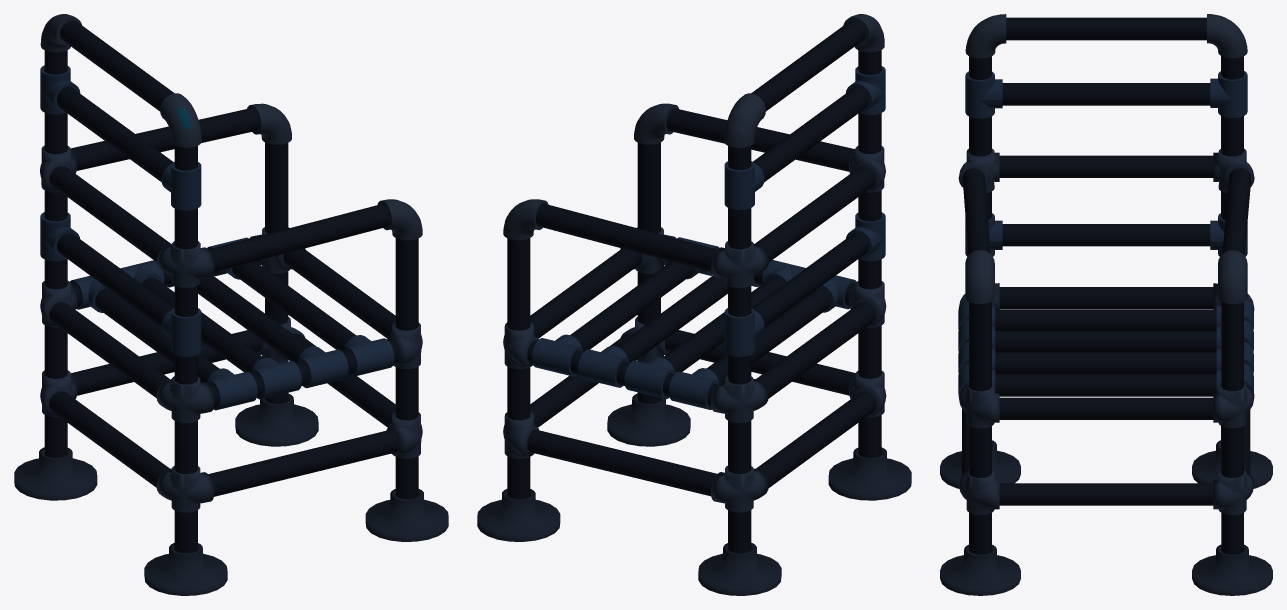
Rendered from Chair_01.fbx.
3 renders of one model, left to right at view 1: azimuth 30°, elevation 25°; view 2: azimuth 150°, elevation 25°; view 3: azimuth 270°, elevation 25°, orthographic. The views are drawn at different scales.
Visible parts, largest first — view 1: p_section_lp24, p_section_lp28, p_section_lp9, p_section_lp12, p_section_lp7, B_Sec_lp9, B_Sec_lp7, B_Sec_lp10, p_section_lp3, B_Sec_lp8, p_section_lp10, p_section_lp8 (+41 smaller); view 2: p_section_lp23, p_section_lp27, p_section_lp12, p_section_lp7, p_section_lp9, B_Sec_lp10, B_Sec_lp8, B_Sec_lp9, B_Sec_lp7, p_section_lp3, p_section_lp8, p_section_lp10 (+41 smaller); view 3: p_section_lp5, p_section_lp3, p_section_lp1, p_section_lp2, p_section_lp7, p_section_lp9, p_section_lp4, p_section_lp6, p_section_lp11, p_section_lp10, p_section_lp8, B_Sec_lp8 (+25 smaller).
Boxes of the visible parts, x1,y1,x2,y2 form: p_section_lp24: [208, 430, 398, 496]; p_section_lp28: [208, 204, 389, 271]; p_section_lp9: [49, 166, 170, 262]; p_section_lp12: [49, 391, 169, 487]; p_section_lp7: [49, 302, 169, 397]; B_Sec_lp9: [14, 447, 97, 500]; B_Sec_lp7: [365, 489, 448, 541]; B_Sec_lp10: [144, 543, 227, 595]; p_section_lp3: [232, 261, 355, 351]; B_Sec_lp8: [235, 393, 318, 446]; p_section_lp10: [57, 86, 173, 181]; p_section_lp8: [57, 233, 173, 327]; p_section_lp23: [527, 429, 716, 496]; p_section_lp27: [536, 204, 717, 271]; p_section_lp12: [756, 391, 876, 487]; p_section_lp7: [756, 302, 876, 398]; p_section_lp9: [755, 166, 875, 261]; B_Sec_lp10: [828, 447, 911, 500]; B_Sec_lp8: [477, 489, 560, 541]; B_Sec_lp9: [698, 543, 781, 595]; B_Sec_lp7: [607, 393, 690, 446]; p_section_lp3: [570, 261, 693, 351]; p_section_lp8: [752, 233, 868, 327]; p_section_lp10: [753, 87, 868, 182]; p_section_lp5: [995, 330, 1216, 352]; p_section_lp3: [995, 374, 1216, 396]; p_section_lp1: [999, 483, 1213, 505]; p_section_lp2: [999, 397, 1213, 419]; p_section_lp7: [999, 287, 1213, 309]; p_section_lp9: [999, 155, 1213, 177]; p_section_lp4: [995, 352, 1216, 373]; p_section_lp6: [995, 309, 1216, 330]; p_section_lp11: [1006, 17, 1206, 40]; p_section_lp10: [1002, 83, 1210, 105]; p_section_lp8: [1002, 224, 1210, 246]; B_Sec_lp8: [1192, 544, 1272, 595].
Bounding box in the file's own units: 71.75 × 111 × 72.84.
